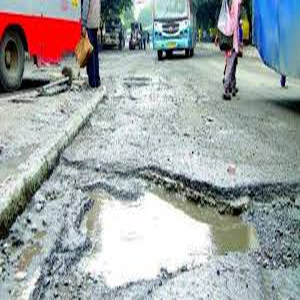pothole: (63, 167, 300, 300)
